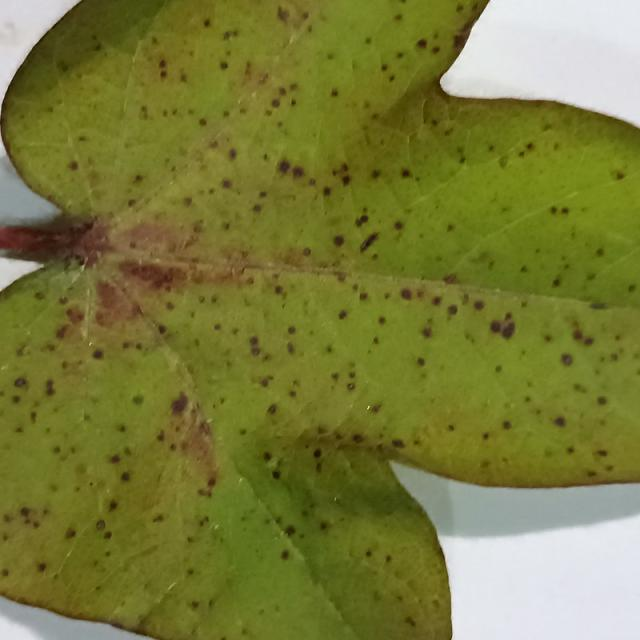Bacterial_Blight: (578, 307, 640, 375), (105, 219, 195, 264), (123, 261, 177, 288), (422, 94, 456, 135), (216, 248, 253, 279), (271, 246, 318, 268), (570, 326, 595, 347), (331, 162, 352, 187), (278, 149, 292, 181), (170, 392, 188, 415), (360, 231, 379, 251), (65, 307, 84, 324), (248, 335, 261, 356), (501, 321, 516, 339), (110, 620, 131, 632), (44, 378, 56, 397), (198, 483, 213, 498), (277, 6, 290, 23), (453, 33, 466, 49), (442, 273, 458, 285), (355, 214, 369, 227), (489, 320, 502, 334), (55, 326, 68, 340), (13, 377, 28, 389), (291, 166, 304, 179), (560, 353, 573, 366), (131, 394, 145, 406), (332, 235, 345, 247), (400, 288, 413, 300), (259, 376, 272, 388), (65, 527, 77, 540), (589, 302, 608, 310), (139, 105, 149, 120), (473, 299, 485, 311), (572, 330, 584, 342), (92, 348, 104, 360), (19, 506, 31, 518), (156, 324, 168, 336), (266, 403, 277, 416), (553, 416, 566, 427), (222, 30, 235, 41), (108, 499, 119, 512), (421, 326, 432, 338), (447, 304, 458, 316), (120, 471, 131, 483), (284, 525, 296, 536), (95, 519, 106, 531), (498, 156, 509, 168), (228, 147, 238, 160), (369, 404, 382, 414), (391, 438, 404, 448), (286, 341, 295, 355), (221, 179, 232, 190), (416, 38, 427, 49), (68, 160, 79, 171), (405, 616, 416, 627), (109, 454, 121, 464), (596, 395, 608, 405), (322, 186, 332, 197), (400, 168, 411, 178), (338, 309, 348, 320), (274, 284, 284, 295), (312, 448, 322, 459), (280, 549, 290, 560), (271, 98, 281, 108), (394, 220, 404, 230), (252, 203, 262, 213), (183, 196, 193, 206), (416, 357, 426, 367), (502, 420, 512, 430), (37, 562, 47, 572), (158, 59, 167, 70), (614, 171, 625, 180), (552, 276, 561, 287), (219, 61, 229, 70), (278, 86, 287, 96), (359, 292, 369, 301), (198, 117, 207, 127), (302, 247, 311, 257), (330, 88, 339, 98), (595, 248, 605, 257), (191, 600, 200, 610), (597, 449, 608, 457), (287, 325, 296, 334), (213, 322, 222, 331), (346, 382, 355, 391), (203, 18, 211, 28), (560, 206, 569, 214), (519, 265, 528, 273), (627, 284, 636, 292), (1, 569, 9, 578), (365, 550, 373, 558)
Cotton: (0, 0, 639, 639)
